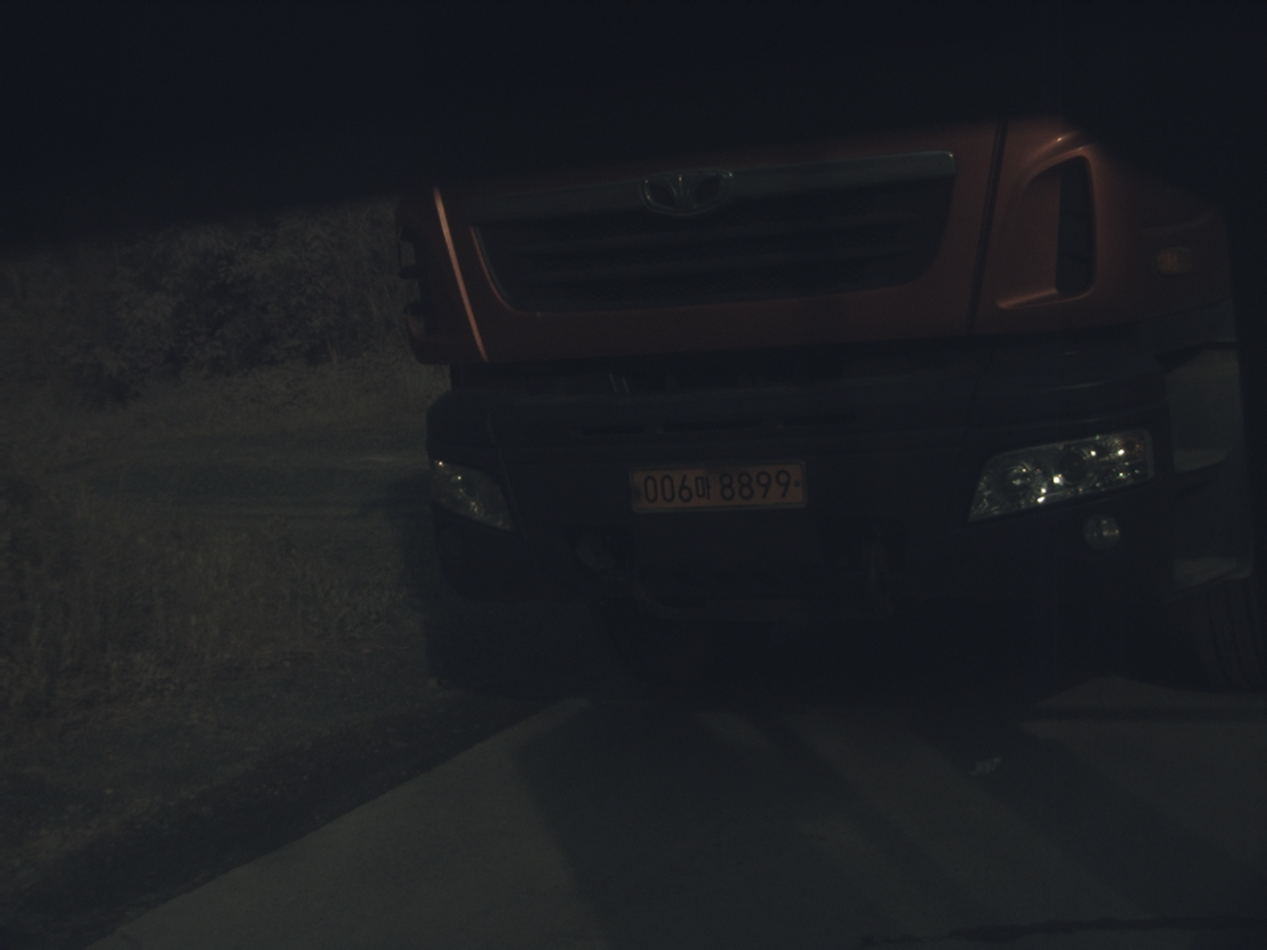license_plate: (631, 462, 804, 512)
truck: (398, 117, 1265, 688)
